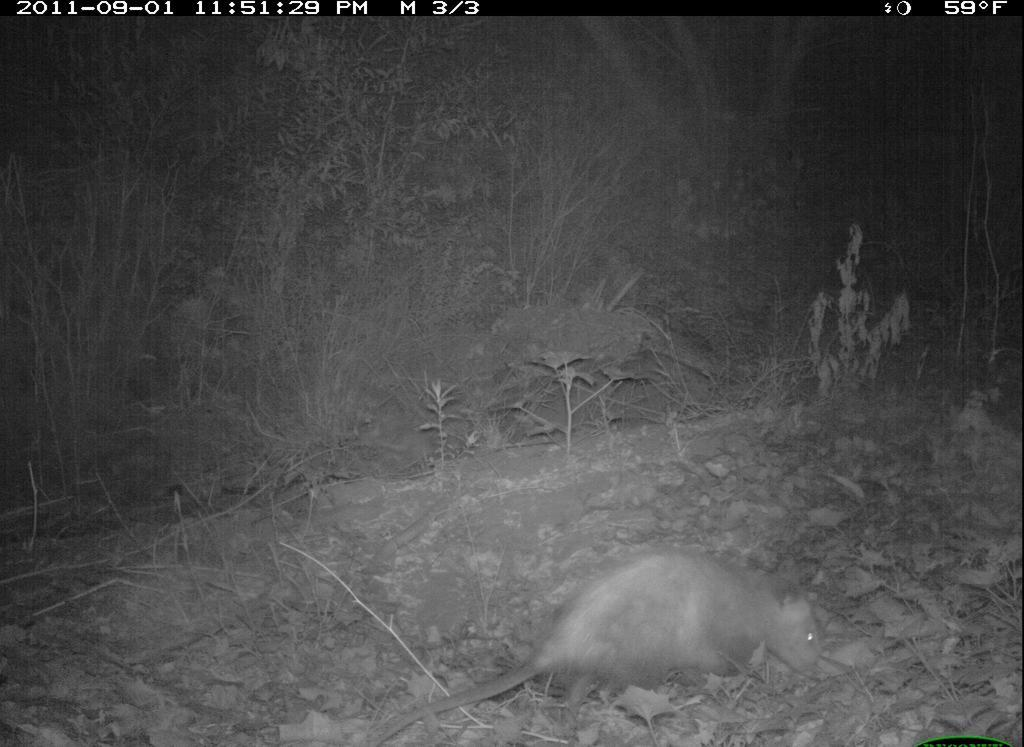opossum: (400, 552, 861, 734)
